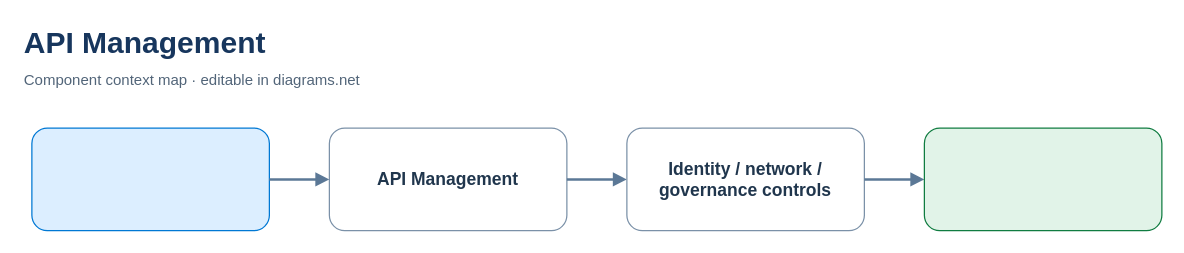
The diagram is 1184 pixels wide and 253 high, and some of its shapes have lost their labels. The shapes that lost their labels are listed below. From the top down, each one's centre as x and y in pixels, then its label:
At (150,179): "I · Integration & API Management".
At (1042,179): "Monitoring / resilience / operations".
